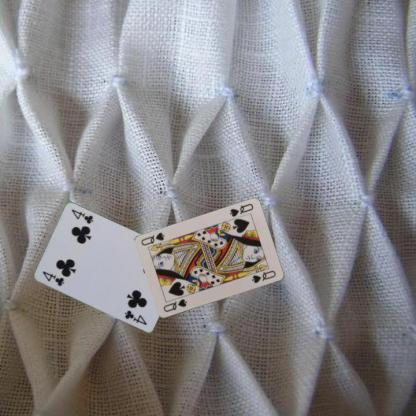4c: (40, 269, 66, 287)
Qs: (160, 296, 188, 314), (227, 201, 254, 219)
